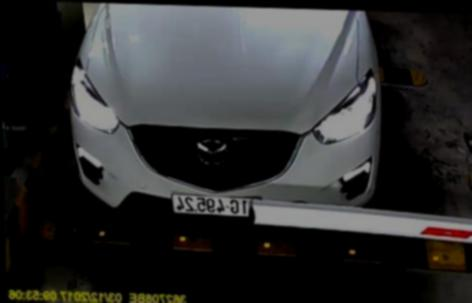License_Plate: (169, 192, 261, 223)
